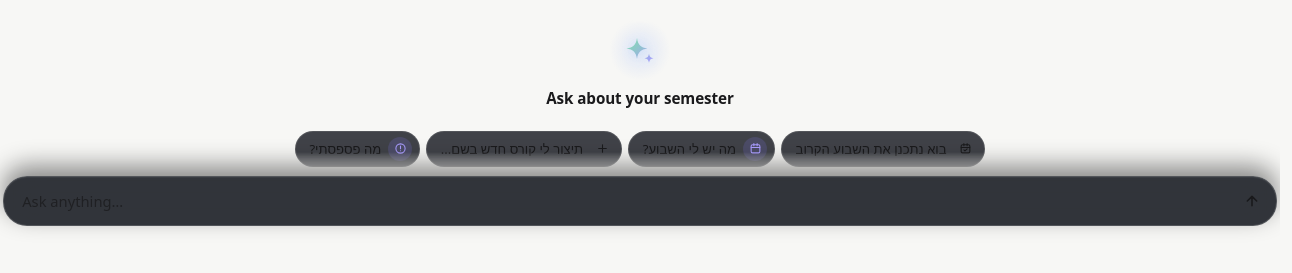
Scenario: AgentPanel › retries a failed message without sending it twice
Click the button "מה פספסתי?": (357, 149) [295,131,420,167]
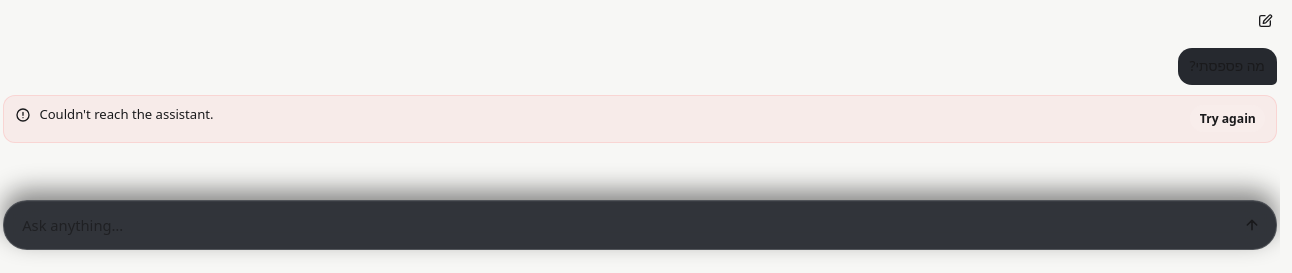
Check: the message shows "Couldn't reach the assistant.", box [39,105,214,123]
Click the button "Try again": (1228, 119) [1190,105,1265,132]
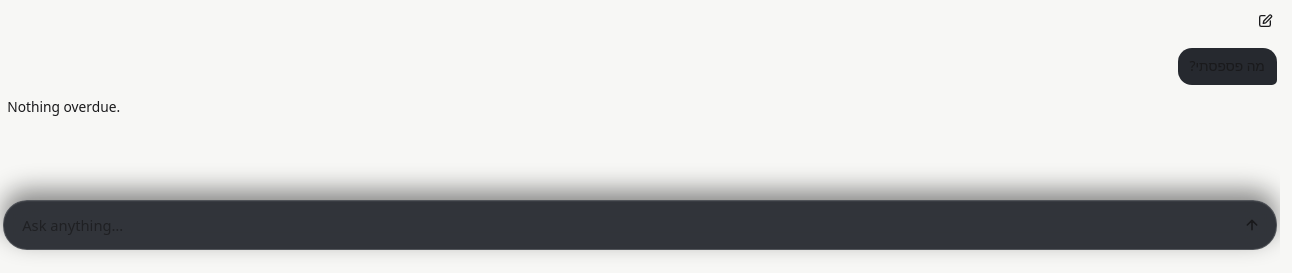
Check: the text "מה פספסתי?" is shown once, box [1178,48,1277,85]
Check: the text "Nothing overdue." is shown, box [7,97,120,116]
Check: the message "Couldn't reach the assistant. Try again" is gone
